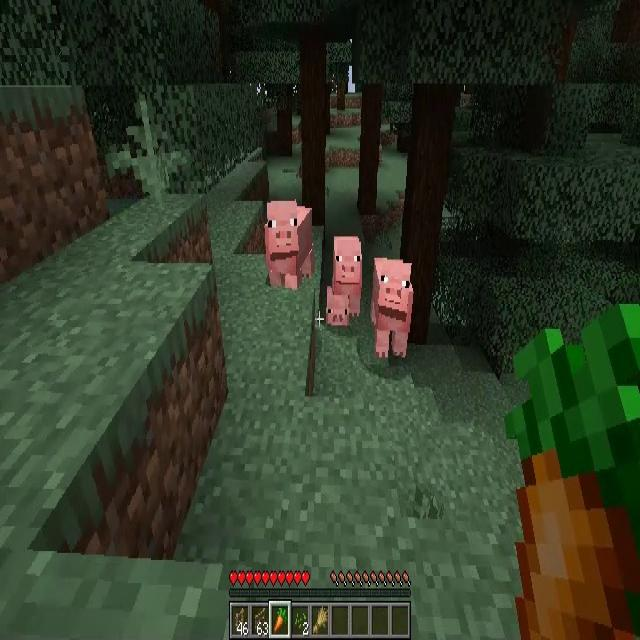pig: (371, 259, 414, 360), (265, 201, 312, 288), (334, 235, 363, 300), (326, 286, 350, 331)
